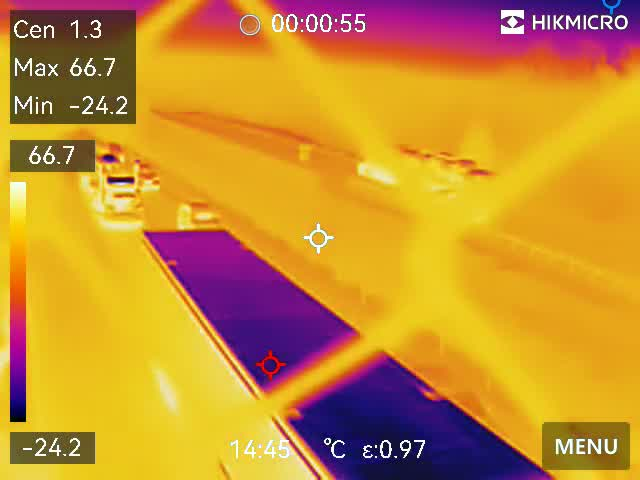heavyTruck: (133, 225, 569, 480), (354, 137, 512, 216), (81, 150, 147, 229)
vehicle: (175, 196, 226, 227), (136, 166, 163, 190)
